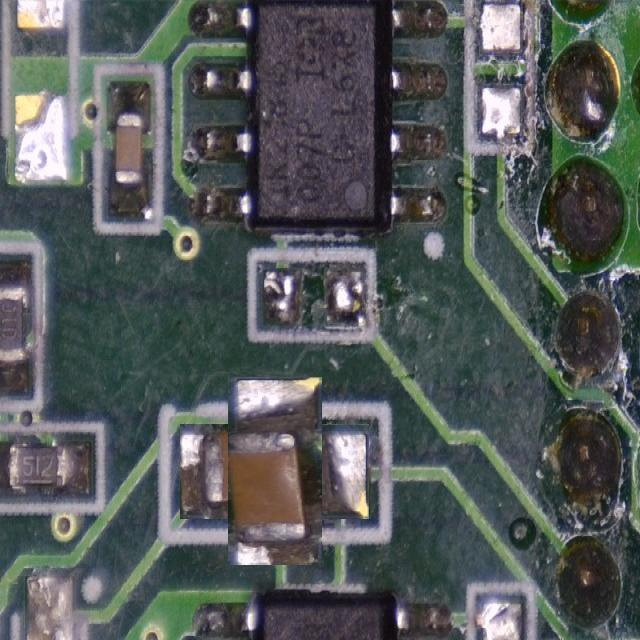Incorrect_installation: (228, 378, 322, 564)
